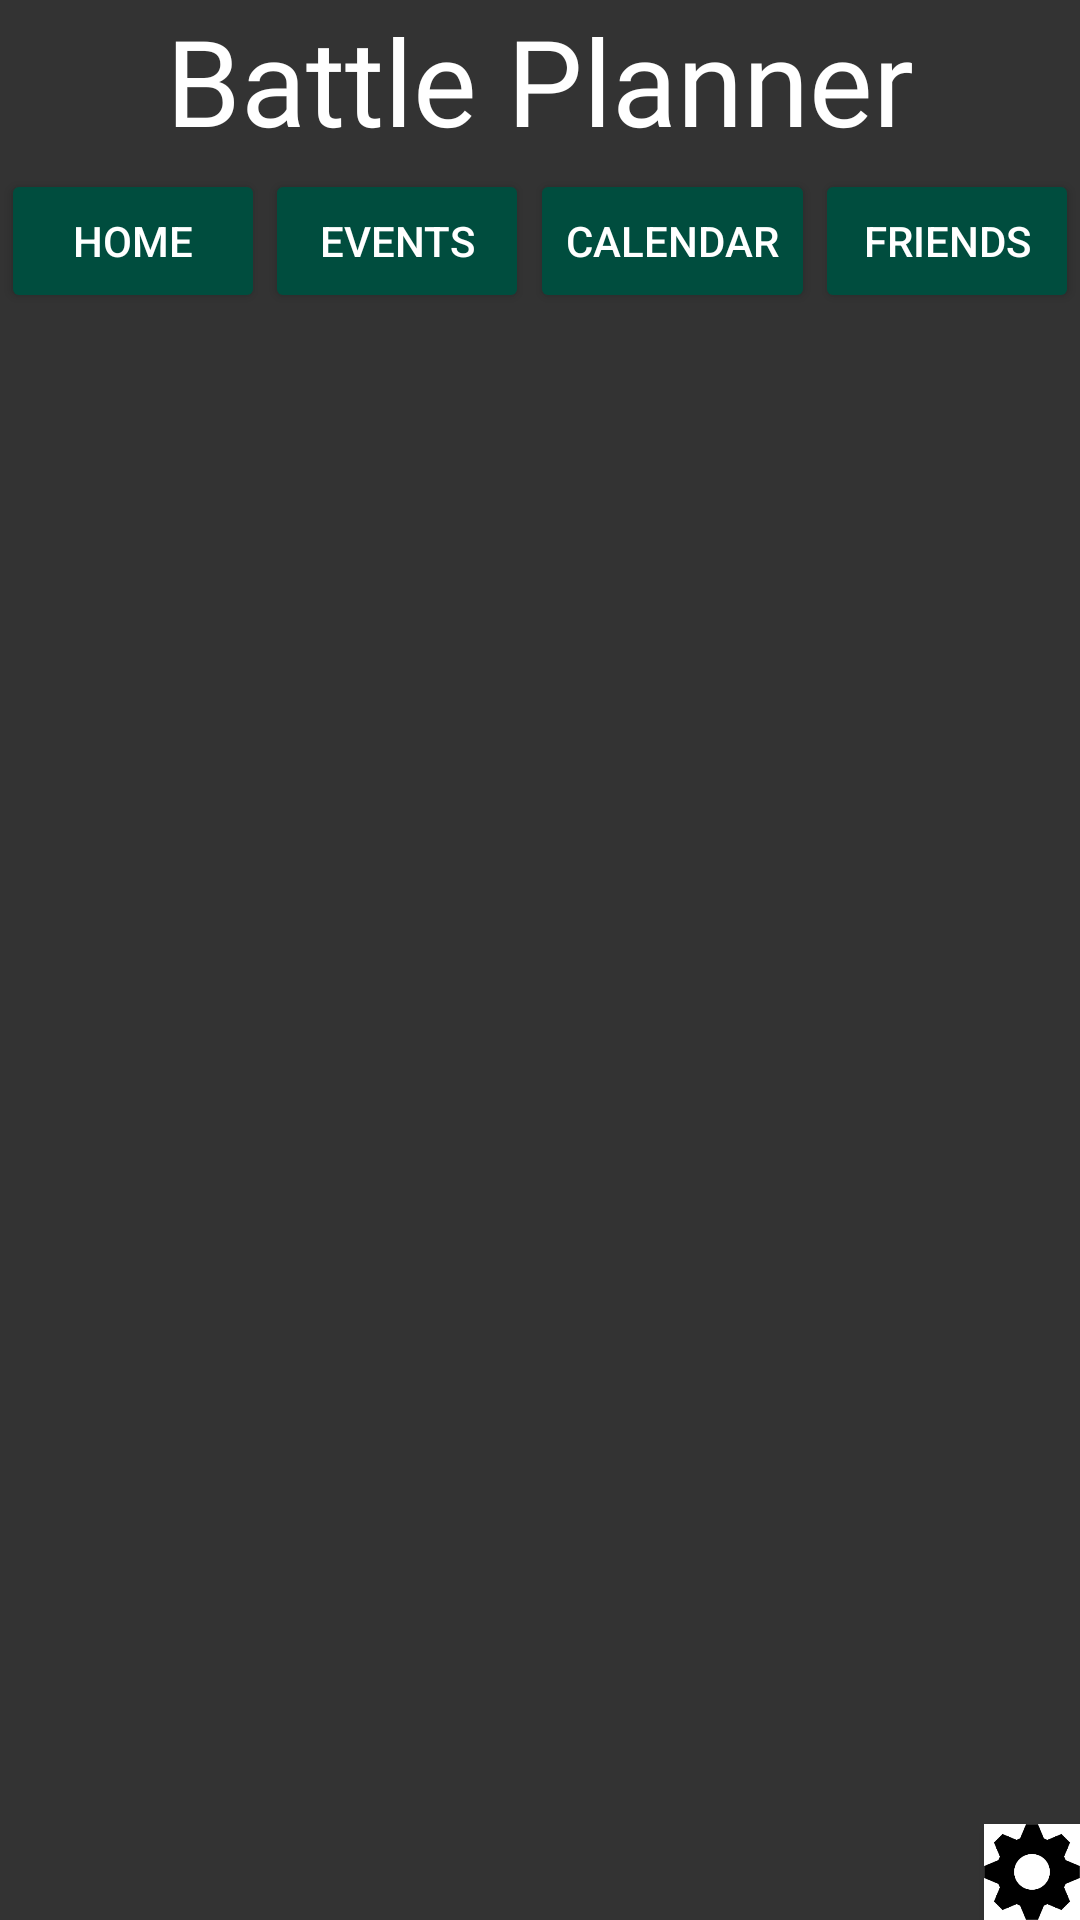

Where icons sit on this 1080*1920 app screen, as (x1, y1, x2, y2):
settings: (984, 1824, 1080, 1920)
